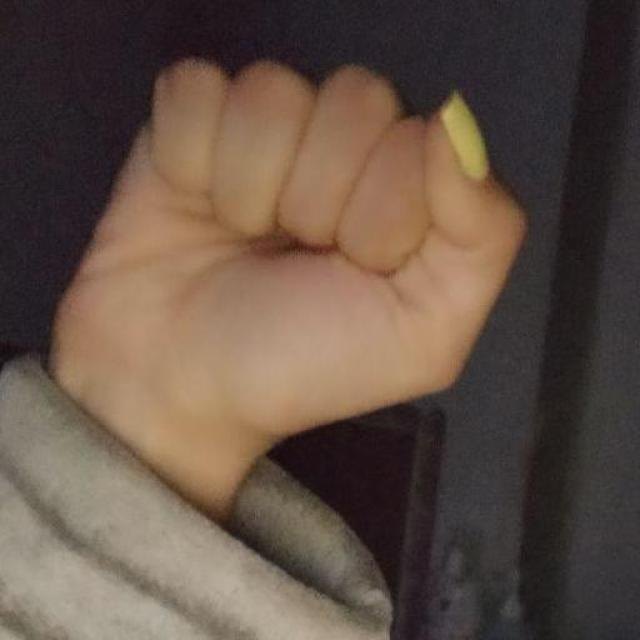hand: (45, 52, 530, 524)
